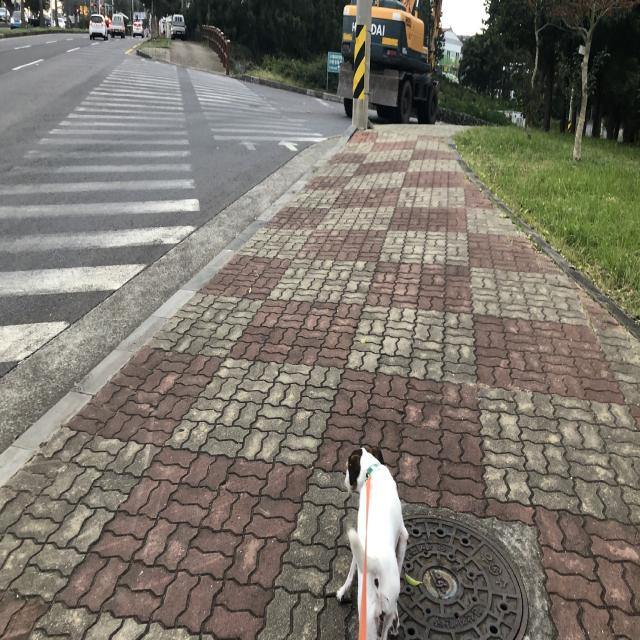횡단보도: (0, 56, 330, 367)
